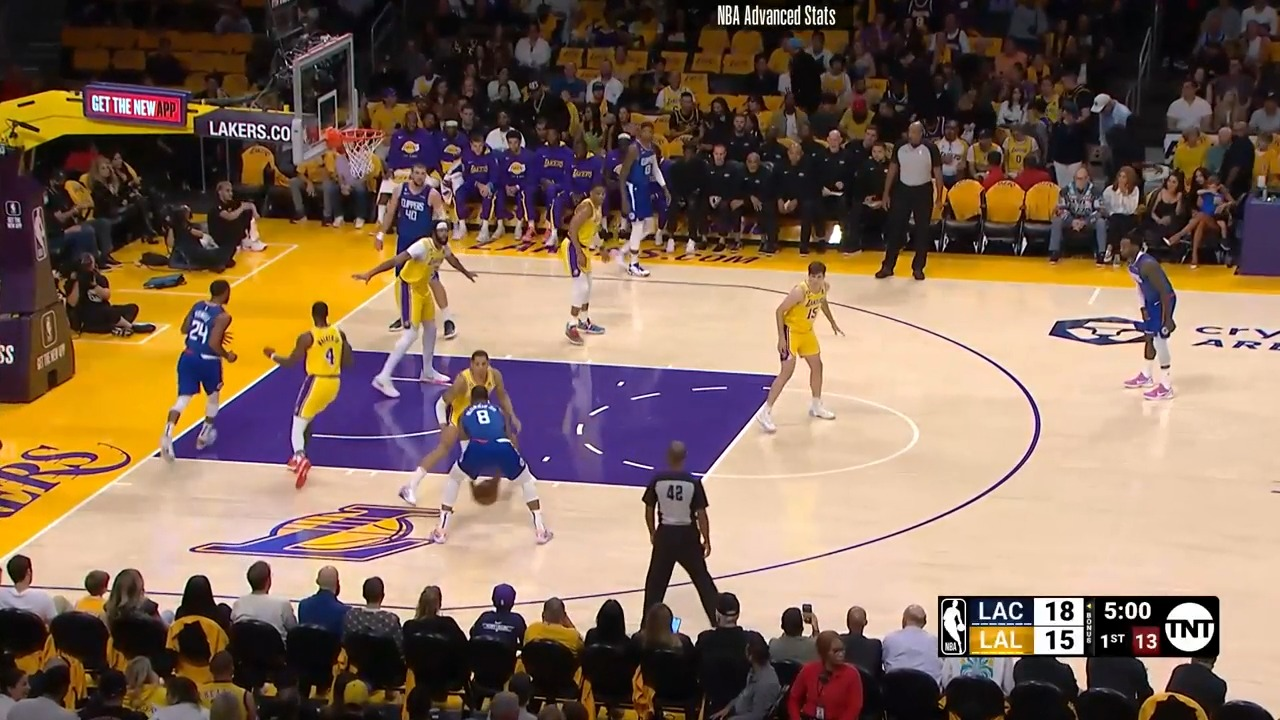net: (317, 120, 387, 173)
player: (426, 381, 559, 551), (353, 222, 479, 395), (400, 349, 520, 510), (264, 298, 356, 488), (766, 256, 853, 435), (164, 278, 242, 469), (375, 162, 452, 337), (553, 179, 627, 350), (1112, 230, 1177, 405), (615, 115, 672, 281)
referee: (637, 439, 732, 633), (872, 121, 946, 288)
